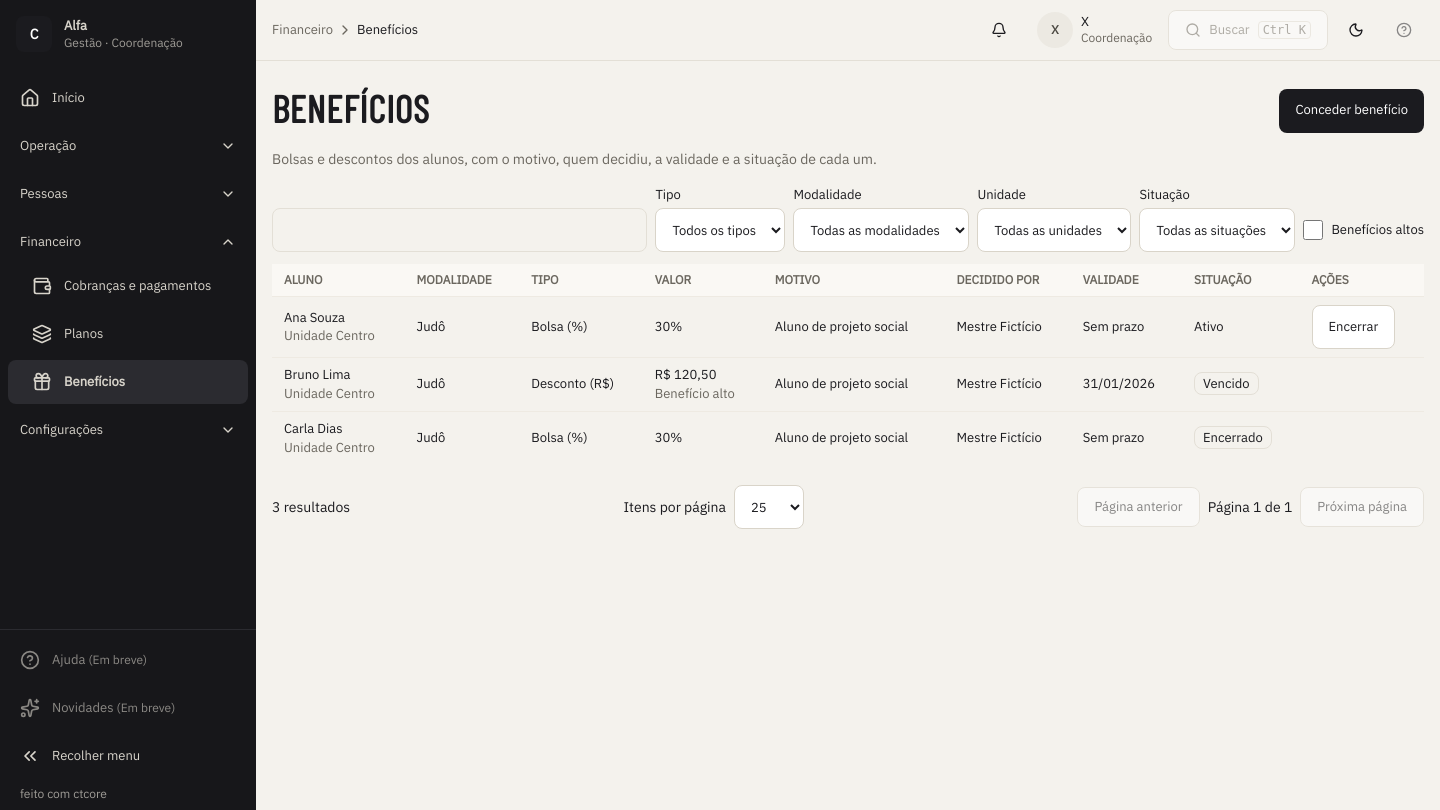
BenefitsPage (RF-BEN-01) › CA10: Encerrar abre a janela, envia o motivo e recarrega a tabela
Click the button "Encerrar": (1353, 327) [1312,305,1395,349]
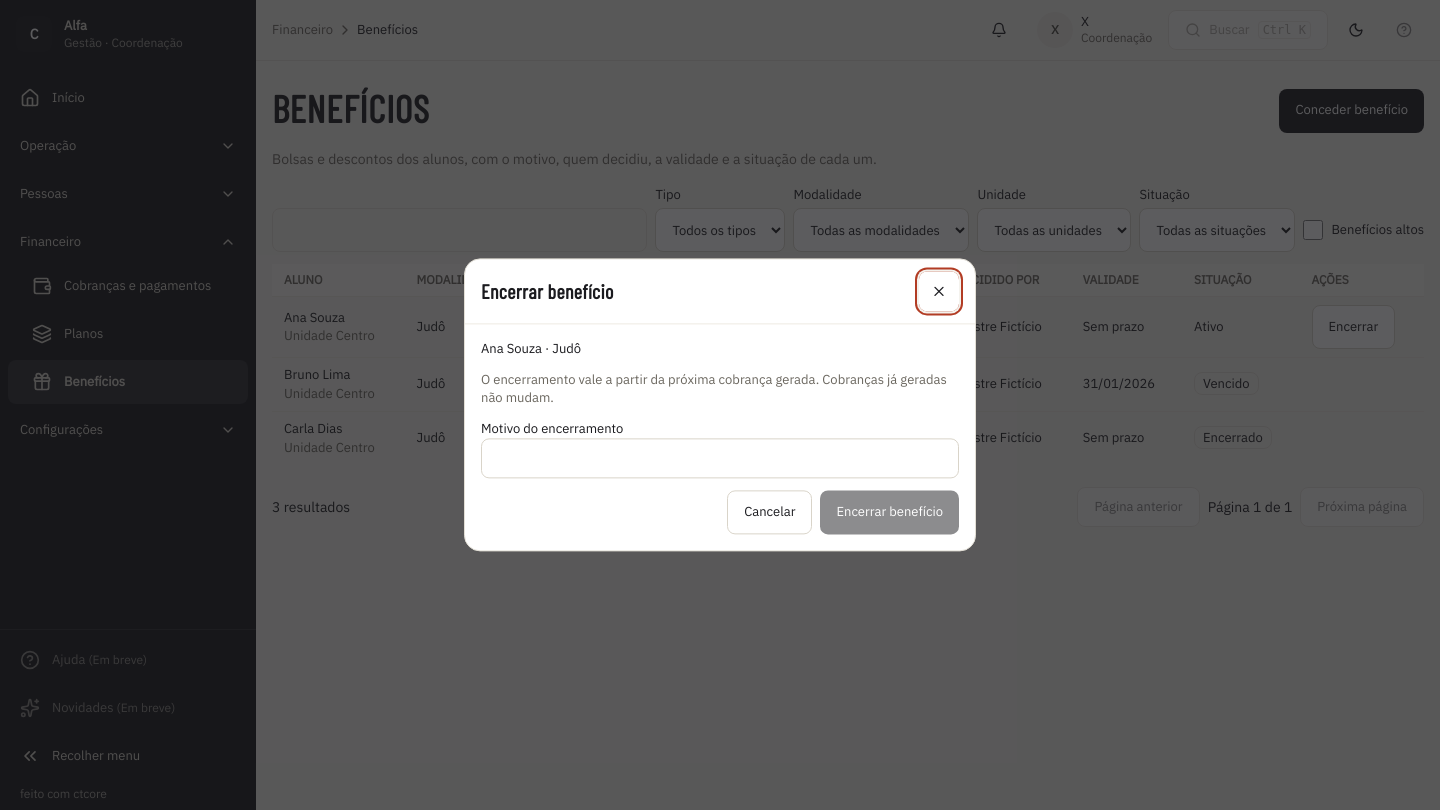
Result: the text "Ana Souza · Judô" is shown at [481,340,581,357]
In the field labelled "Motivo do encerramento": (720, 459) [481,439,959,479], type "Mudou de cidade"
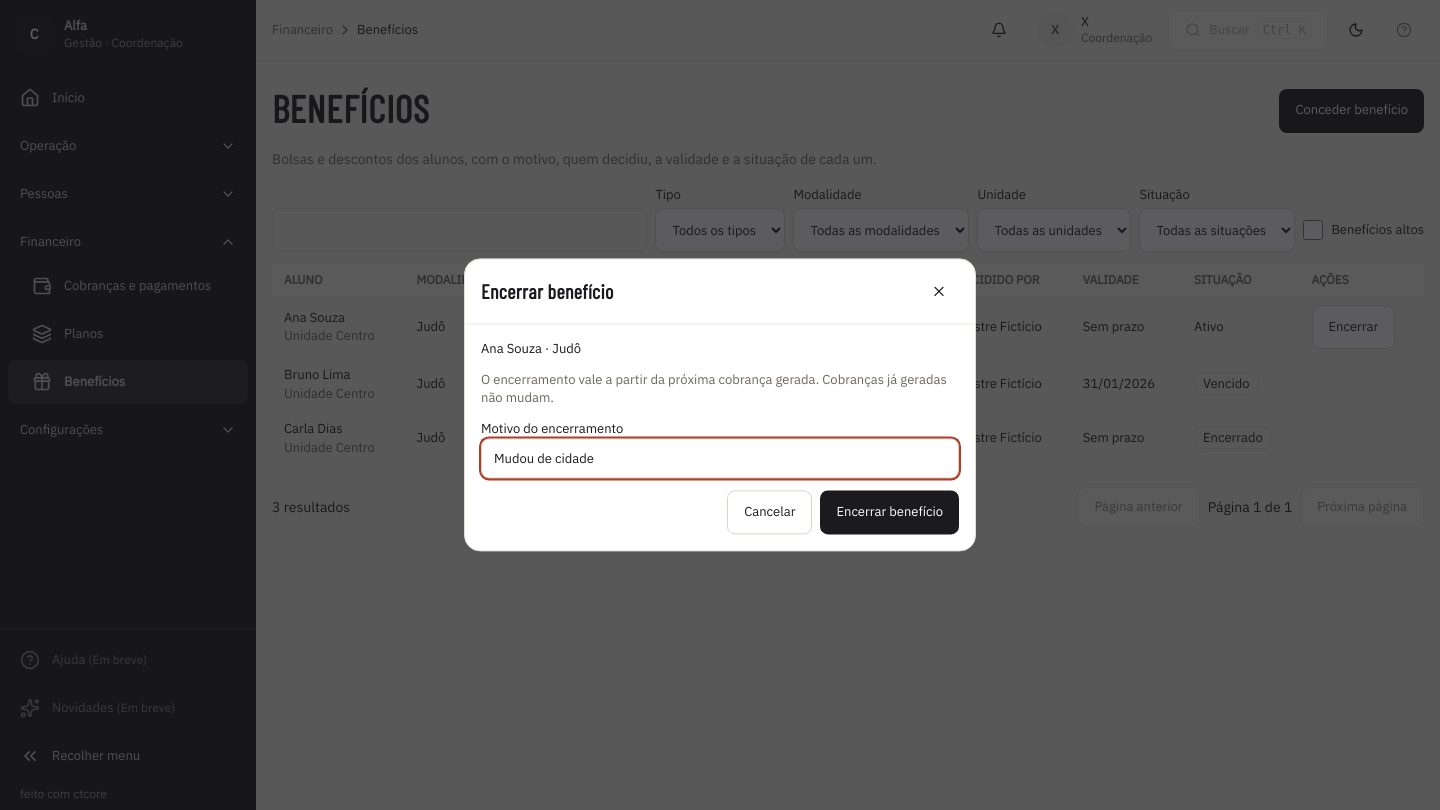
Click the button "Encerrar benefício": (890, 513) [820,491,959,535]
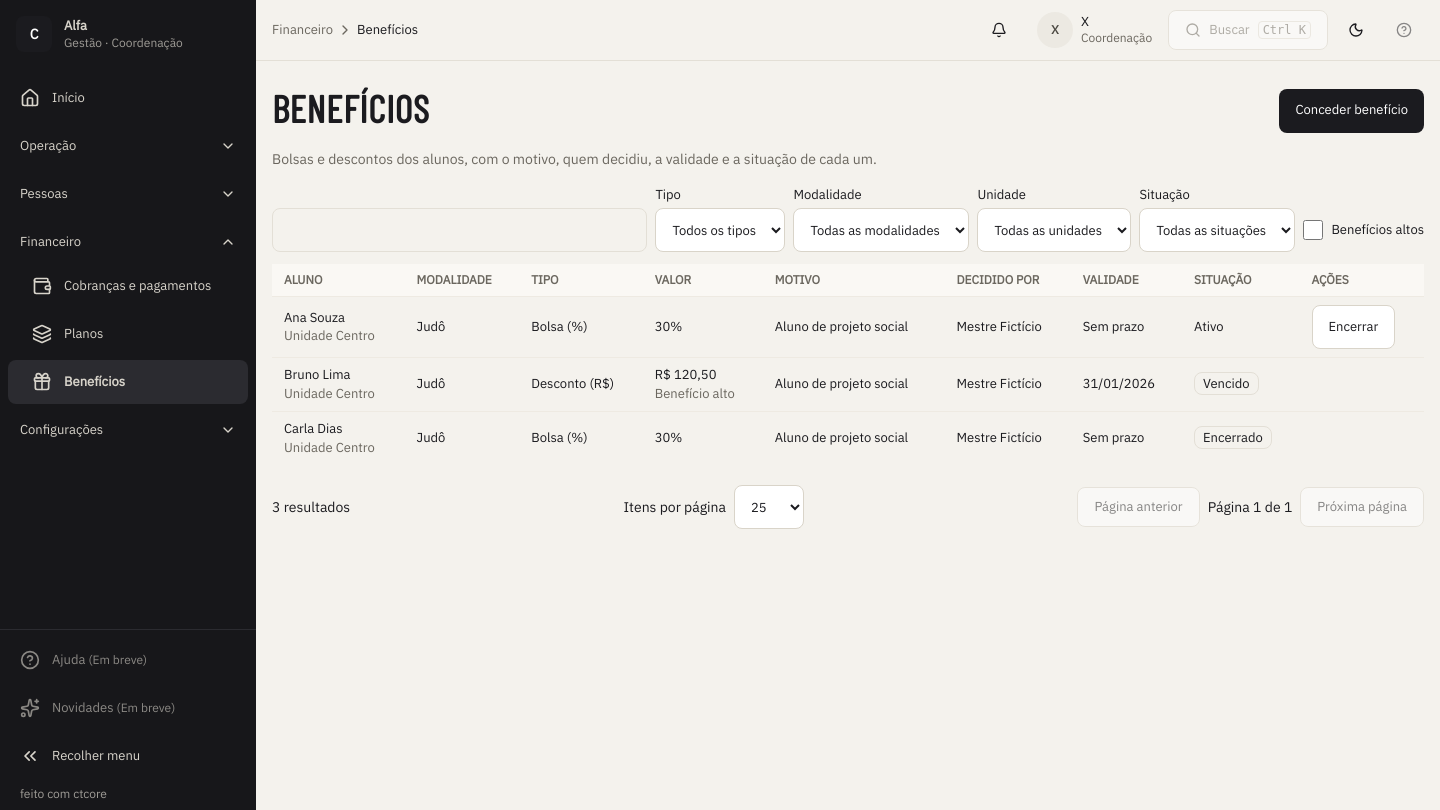
Result: the label labelled "Motivo do encerramento" is gone
